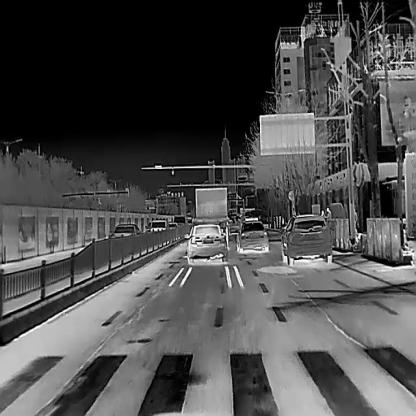car: (281, 212, 333, 265), (183, 222, 228, 262), (235, 220, 269, 252), (110, 224, 140, 236), (150, 218, 168, 230), (324, 206, 332, 218), (320, 210, 324, 217)
truck: (194, 186, 228, 224)
